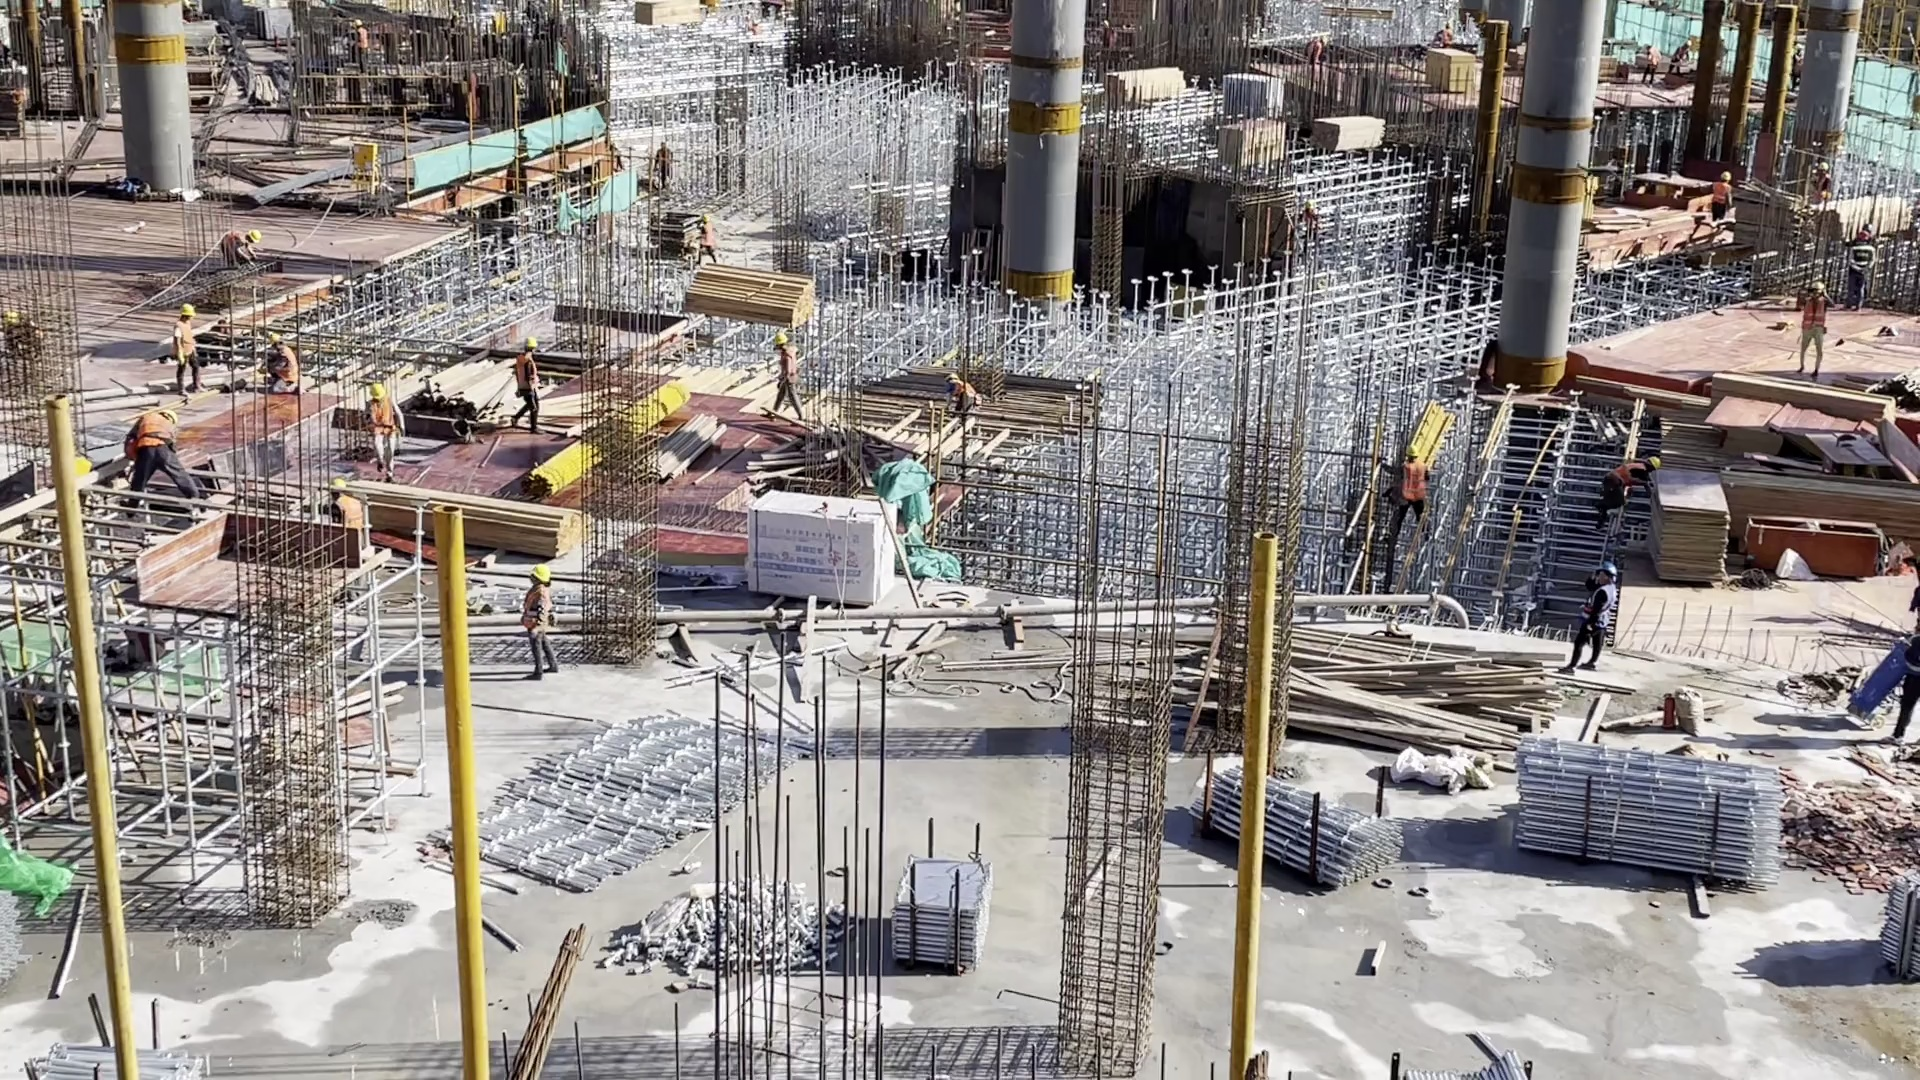helmet: (530, 563, 549, 586), (368, 382, 385, 401), (521, 334, 540, 349), (1808, 278, 1826, 291), (771, 332, 787, 347), (1858, 225, 1874, 240), (179, 305, 197, 318), (1598, 564, 1616, 576), (1406, 445, 1420, 458), (265, 336, 284, 344), (1816, 162, 1831, 172), (249, 231, 261, 242), (1717, 173, 1732, 182), (1647, 457, 1660, 467), (944, 373, 956, 382), (699, 214, 710, 222), (1320, 35, 1328, 45), (354, 21, 362, 26), (659, 142, 667, 148), (1644, 43, 1653, 48), (1685, 39, 1690, 46), (1446, 22, 1451, 27)
person: (123, 410, 190, 495), (523, 561, 571, 677), (361, 377, 408, 486), (167, 301, 213, 397), (1579, 561, 1616, 678), (1601, 449, 1659, 516), (1800, 276, 1831, 388), (512, 332, 545, 432), (1891, 627, 1920, 739), (770, 329, 804, 420), (1397, 450, 1434, 524), (1845, 223, 1875, 312), (260, 335, 302, 397), (6, 311, 43, 354), (1710, 170, 1736, 232), (694, 213, 720, 269), (943, 374, 980, 413), (223, 229, 259, 267), (1305, 34, 1329, 82), (350, 19, 372, 68), (653, 142, 674, 190), (1812, 162, 1833, 203), (1669, 38, 1691, 75), (1644, 41, 1661, 82), (1791, 41, 1802, 88), (1441, 21, 1457, 49), (745, 17, 761, 40)
vest: (1584, 582, 1614, 626), (138, 413, 174, 447), (524, 587, 550, 630), (513, 354, 541, 391), (271, 348, 297, 382), (369, 401, 396, 433), (1403, 461, 1425, 499), (1611, 461, 1645, 485), (1848, 246, 1874, 274), (174, 323, 195, 356), (1805, 297, 1823, 329), (950, 382, 975, 399), (1714, 182, 1729, 207), (223, 232, 244, 248), (1816, 176, 1830, 197), (701, 224, 714, 246), (357, 29, 369, 50), (1649, 50, 1657, 64)
